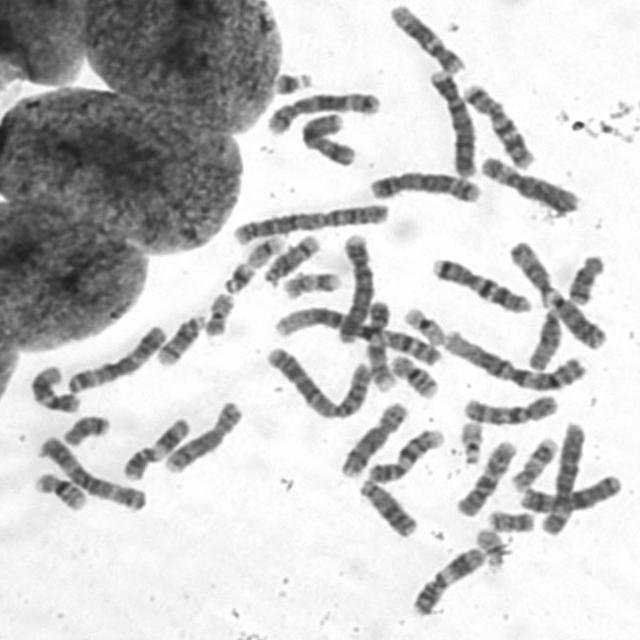A1: (268, 298, 443, 368), (438, 322, 589, 392)
A2: (259, 338, 374, 421), (225, 194, 392, 246)
A3: (32, 428, 150, 512), (60, 318, 170, 394)
B4: (424, 62, 481, 179), (332, 227, 376, 345)
B5: (261, 84, 384, 136), (364, 164, 483, 203)
C10: (450, 434, 519, 518), (456, 388, 560, 427)
C11: (405, 540, 488, 618), (117, 411, 194, 483)
C12: (384, 0, 467, 75), (24, 359, 84, 414)
C6: (474, 148, 584, 216), (534, 415, 589, 538)
C7: (458, 76, 537, 170), (426, 250, 535, 314)
C8: (159, 394, 244, 476), (332, 395, 410, 479)
C9: (362, 421, 446, 484), (361, 294, 399, 393)
D13: (352, 472, 419, 538), (540, 287, 608, 351)
D14: (257, 228, 321, 286), (151, 308, 209, 367)
D15: (504, 235, 554, 298), (522, 300, 564, 373)
E16: (27, 465, 90, 513), (384, 347, 441, 400)
E17: (504, 431, 560, 493), (276, 264, 343, 301)
E18: (562, 247, 608, 306), (57, 408, 113, 448)
F19: (397, 300, 447, 347), (240, 229, 287, 268)
F20: (198, 286, 237, 338), (482, 503, 537, 534)
G21: (216, 255, 256, 295), (268, 63, 316, 96)
G22: (470, 522, 507, 570), (453, 414, 486, 466)
X: (514, 467, 625, 515), (295, 106, 360, 167)
